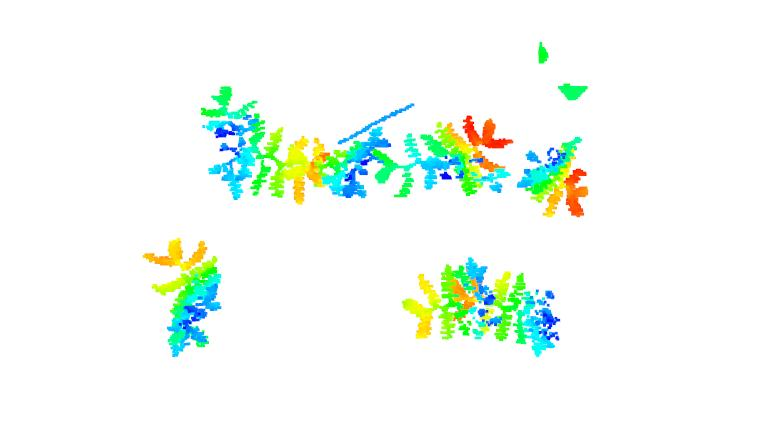chickpea: (196, 84, 331, 209), (404, 257, 563, 359), (375, 117, 517, 199), (141, 235, 223, 358), (516, 132, 593, 221), (314, 122, 391, 202)
